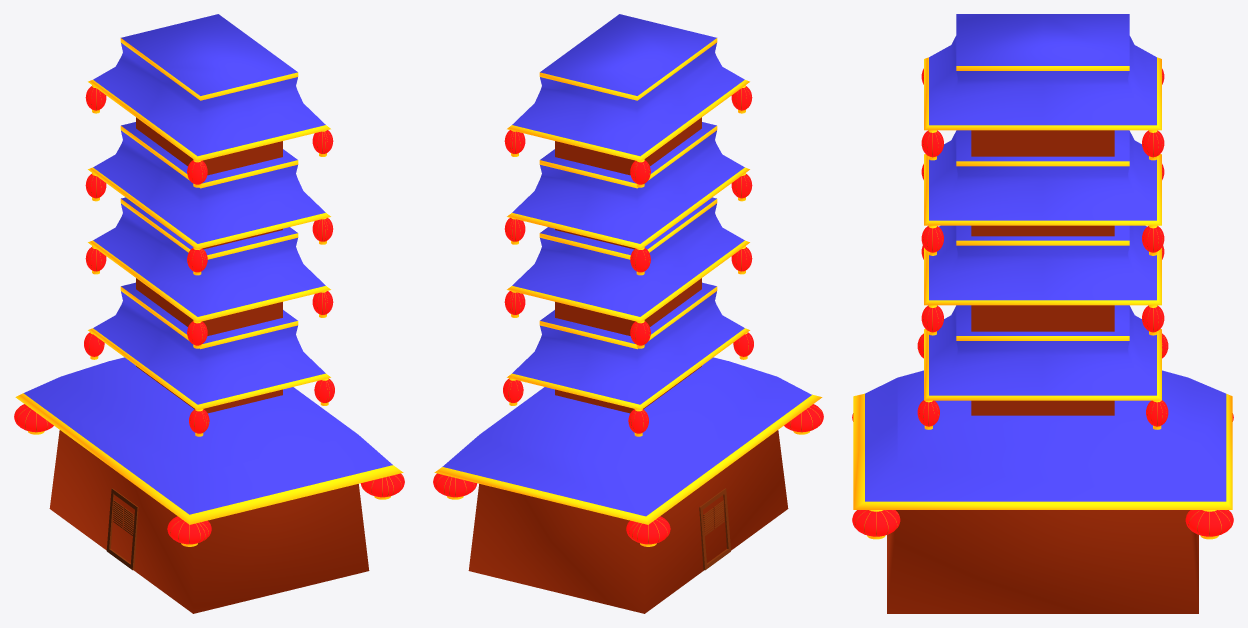
The model's file is house 2.fbx.
The picture shows the model from 3 angles, left to right: view 1: azimuth 30°, elevation 25°; view 2: azimuth 150°, elevation 25°; view 3: azimuth 270°, elevation 25°; orthographic projection. The views are drawn at different scales.
Visible parts, largest first — view 1: Sphere.006; view 2: Sphere.006; view 3: Sphere.006.
Boxes of the visible parts, left/top/right/bottom form: Sphere.006: left=14, top=14, right=404, bottom=613; Sphere.006: left=433, top=14, right=823, bottom=613; Sphere.006: left=852, top=14, right=1233, bottom=613.
Size of the model in its own units: 320 by 640 by 420.
